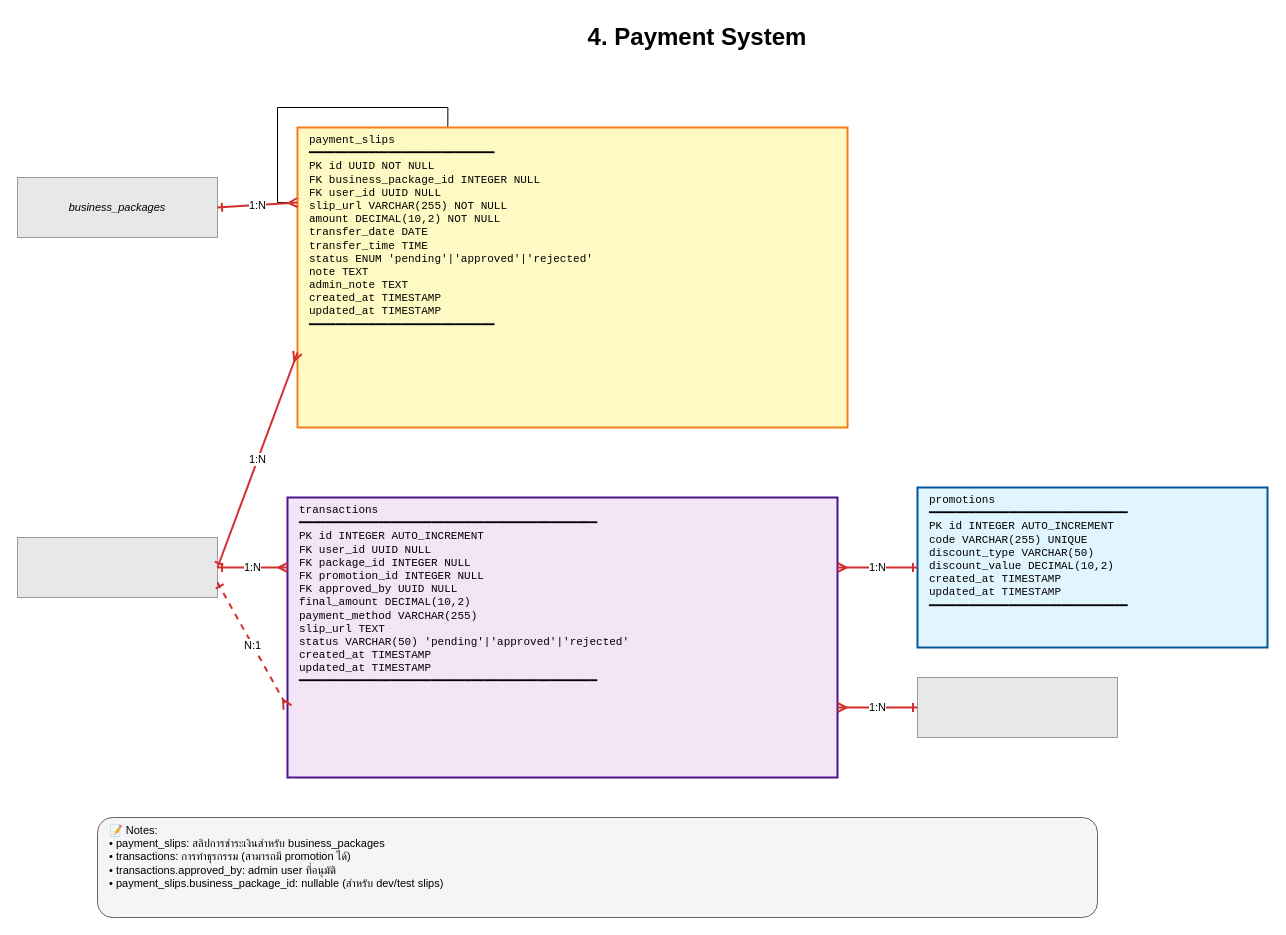
This 1286x935 diagram has some shape labels left out. Each missing label, with the centre of its shape:
packages: (x=1017, y=707)
users: (x=117, y=567)
